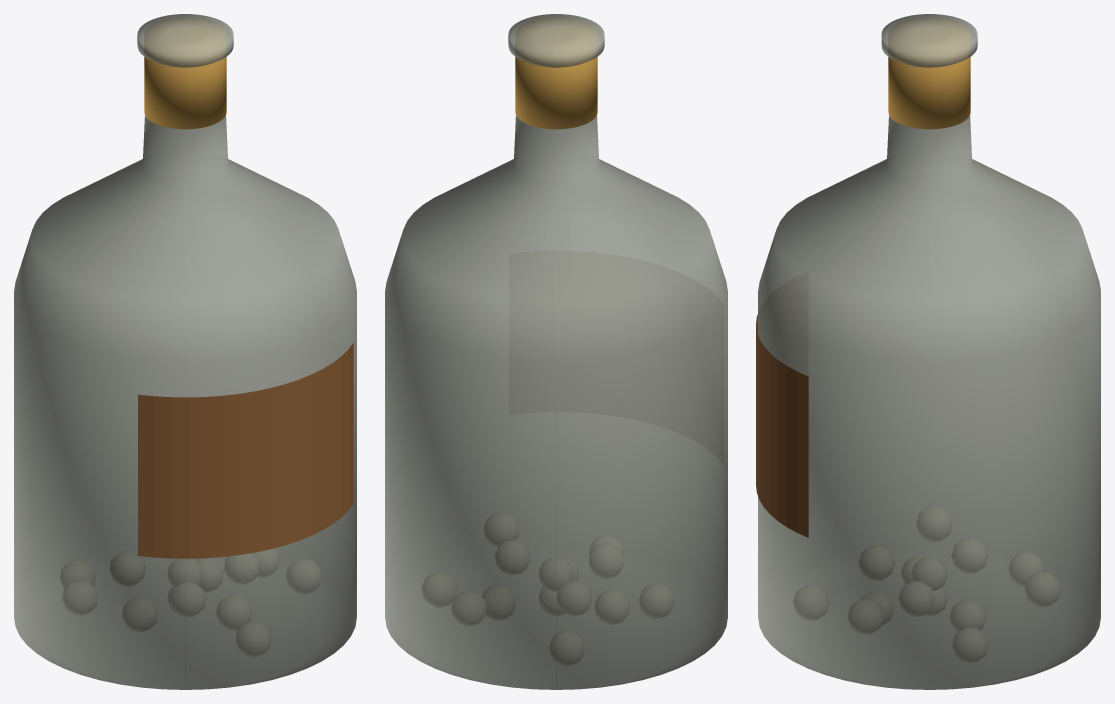
3 renders of one model, left to right at view 1: azimuth 30°, elevation 25°; view 2: azimuth 150°, elevation 25°; view 3: azimuth 270°, elevation 25°, orthographic.
Visible parts, largest first — view 1: TI045 / bottle body, TI045 / curved bottle label, TI045 / bottle neck foil, TI045 / undissolved pearl.005, TI045 / undissolved pearl.007, TI045 / undissolved pearl.001, TI045 / undissolved pearl.004, TI045 / undissolved pearl.017, TI045 / undissolved pearl.002, TI045 / undissolved pearl.010, TI045 / undissolved pearl.013, TI045 / undissolved pearl.003 (+2 smaller); view 2: TI045 / bottle body, TI045 / bottle neck foil, TI045 / undissolved pearl.004, TI045 / undissolved pearl.007, TI045 / undissolved pearl.014, TI045 / undissolved pearl.011, TI045 / undissolved pearl.017, TI045 / undissolved pearl.013, TI045 / undissolved pearl.001, TI045 / undissolved pearl.008, TI045 / undissolved pearl.005, TI045 / undissolved pearl.016 (+1 smaller); view 3: TI045 / bottle body, TI045 / bottle neck foil, TI045 / curved bottle label, TI045 / undissolved pearl.001, TI045 / undissolved pearl.013, TI045 / undissolved pearl.007, TI045 / undissolved pearl.011, TI045 / undissolved pearl.002, TI045 / undissolved pearl.017, TI045 / undissolved pearl.005, TI045 / undissolved pearl.008, TI045 / undissolved pearl.016 (+2 smaller).
Part boxes in pixels (x1,y1,x2,y2): TI045 / bottle body: [14, 14, 356, 689]; TI045 / curved bottle label: [138, 342, 353, 558]; TI045 / bottle neck foil: [144, 17, 226, 129]; TI045 / undissolved pearl.005: [286, 559, 321, 594]; TI045 / undissolved pearl.007: [170, 581, 205, 617]; TI045 / undissolved pearl.001: [110, 551, 145, 586]; TI045 / undissolved pearl.004: [122, 596, 157, 632]; TI045 / undissolved pearl.017: [62, 580, 97, 615]; TI045 / undissolved pearl.002: [236, 621, 271, 657]; TI045 / undissolved pearl.010: [216, 595, 251, 630]; TI045 / undissolved pearl.013: [224, 553, 259, 584]; TI045 / undissolved pearl.003: [168, 559, 202, 587]; TI045 / bottle body: [385, 14, 727, 689]; TI045 / bottle neck foil: [515, 17, 597, 129]; TI045 / undissolved pearl.004: [594, 589, 629, 624]; TI045 / undissolved pearl.007: [589, 543, 623, 578]; TI045 / undissolved pearl.014: [549, 630, 584, 665]; TI045 / undissolved pearl.011: [451, 590, 486, 626]; TI045 / undissolved pearl.017: [639, 583, 674, 618]; TI045 / undissolved pearl.013: [495, 539, 530, 575]; TI045 / undissolved pearl.001: [557, 580, 591, 616]; TI045 / undissolved pearl.008: [422, 572, 456, 607]; TI045 / undissolved pearl.005: [484, 512, 519, 546]; TI045 / undissolved pearl.016: [482, 585, 515, 620]; TI045 / bottle body: [758, 14, 1100, 689]; TI045 / bottle neck foil: [888, 17, 970, 129]; TI045 / curved bottle label: [756, 314, 808, 537]; TI045 / undissolved pearl.001: [951, 538, 987, 573]; TI045 / undissolved pearl.013: [899, 581, 934, 616]; TI045 / undissolved pearl.007: [859, 545, 894, 580]; TI045 / undissolved pearl.011: [1024, 572, 1060, 606]; TI045 / undissolved pearl.002: [793, 585, 829, 619]; TI045 / undissolved pearl.017: [916, 507, 952, 541]; TI045 / undissolved pearl.005: [848, 599, 883, 633]; TI045 / undissolved pearl.008: [952, 628, 988, 662]; TI045 / undissolved pearl.016: [950, 600, 985, 631].
Size of the model in its own units: 1.3 by 2.5 by 1.31.
